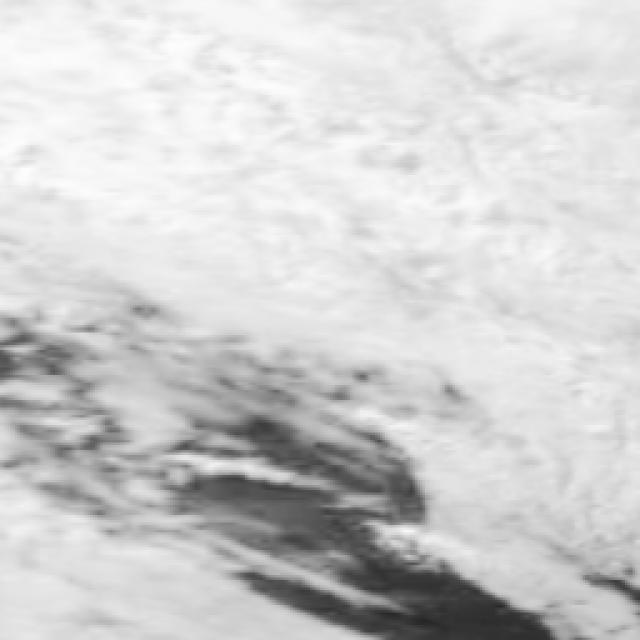CB: (425, 2, 640, 229), (3, 3, 221, 222), (217, 2, 430, 224), (487, 316, 640, 540), (428, 226, 640, 374), (215, 214, 478, 333)
